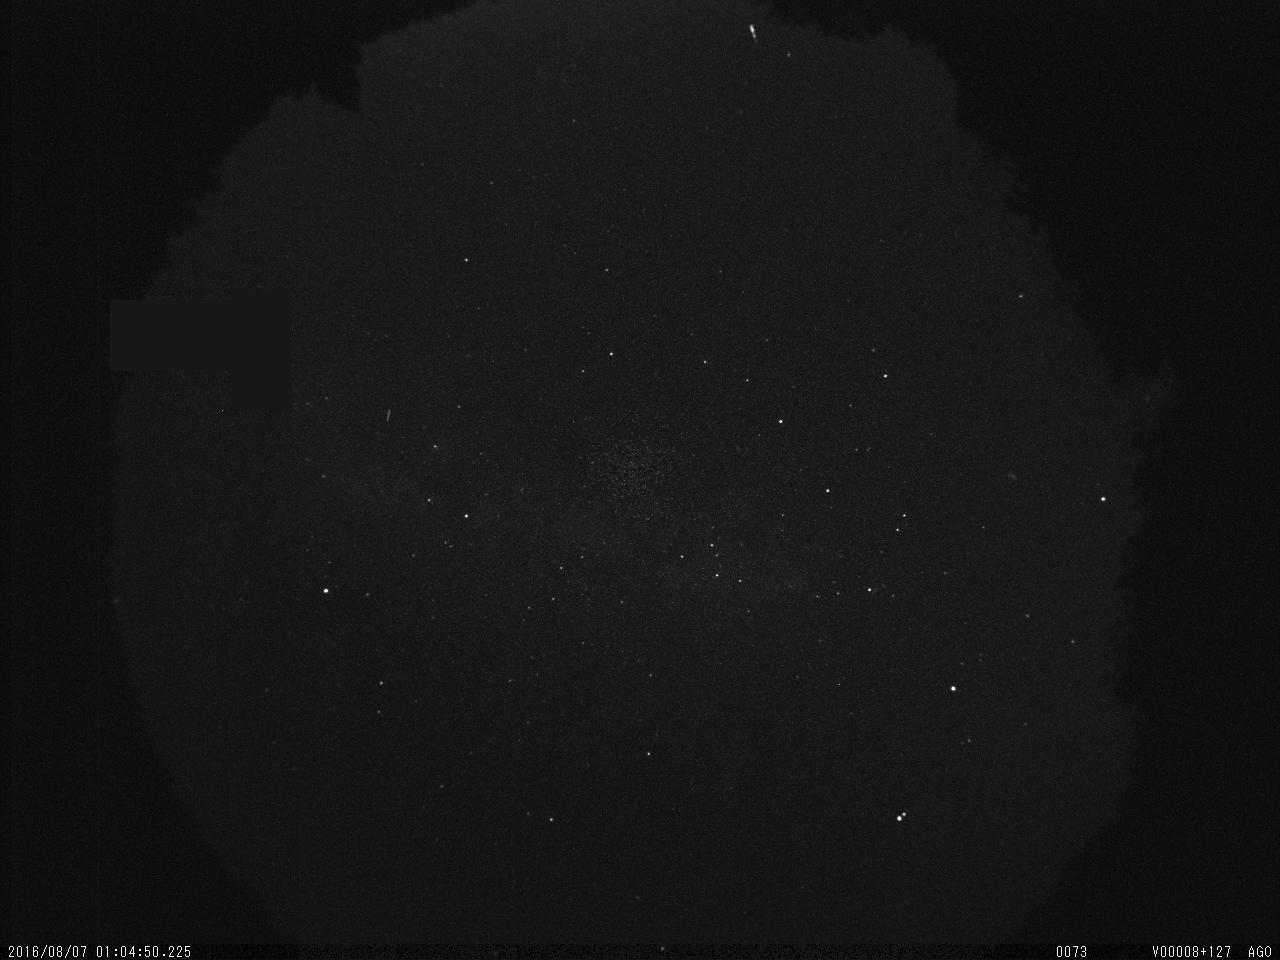meteor: (732, 11, 773, 50)
